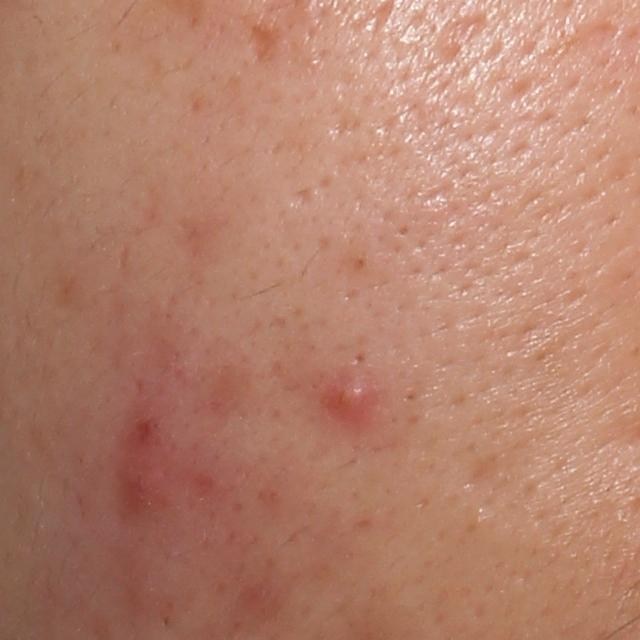atrophic_scar: (432, 11, 487, 67), (563, 21, 621, 57), (248, 20, 283, 61), (287, 186, 315, 212)
papule: (121, 404, 169, 461), (122, 464, 166, 513), (327, 374, 378, 416)
